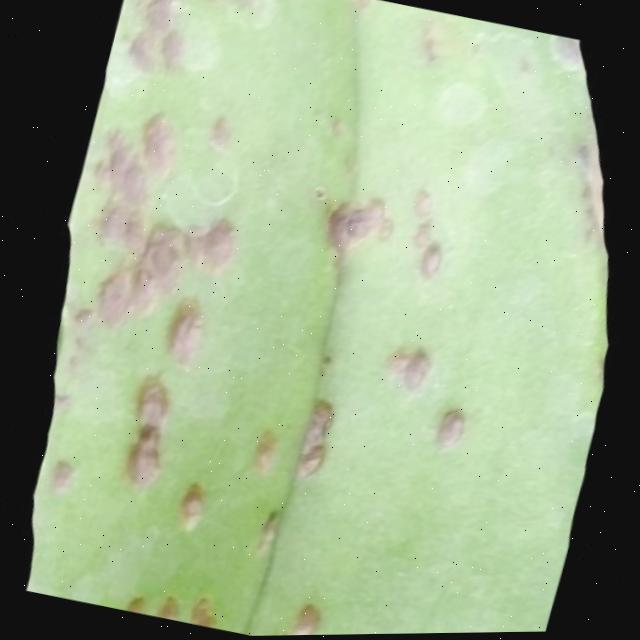mite: (122, 562, 337, 637), (127, 579, 232, 629), (296, 396, 346, 485), (429, 75, 494, 136), (178, 477, 216, 527), (250, 425, 287, 475), (416, 238, 449, 282), (294, 599, 331, 636), (192, 592, 229, 629), (160, 591, 191, 621), (128, 590, 157, 615)
